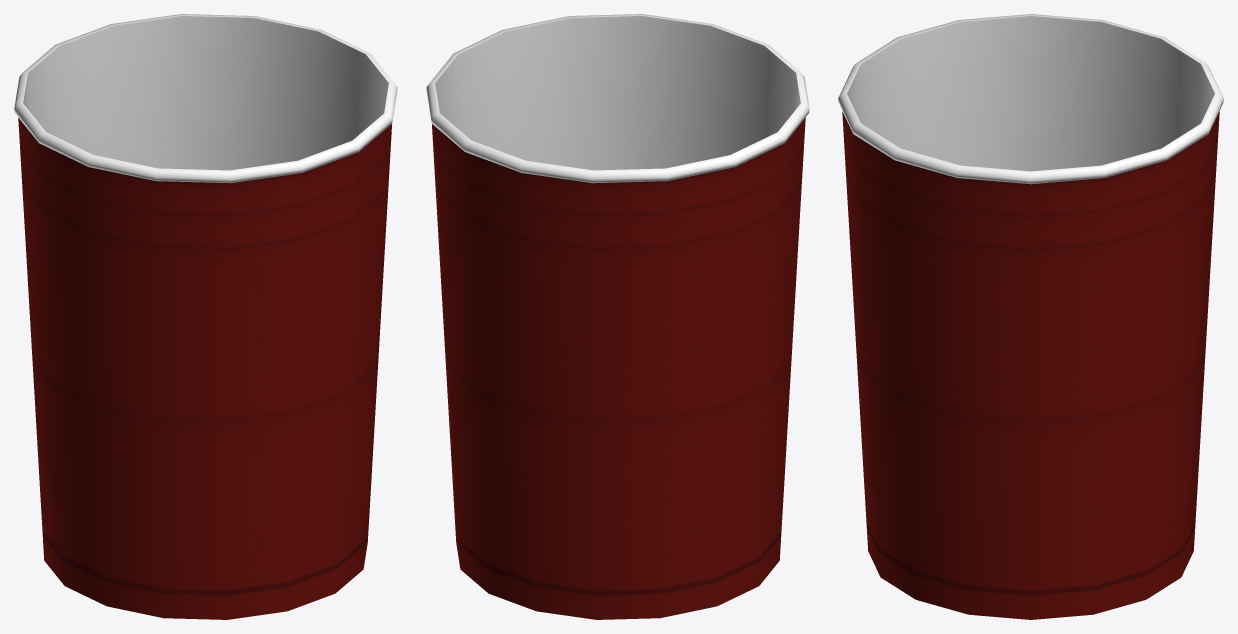
Rendered from cup_01.fbx.
3 renders of one model, left to right at view 1: azimuth 30°, elevation 25°; view 2: azimuth 150°, elevation 25°; view 3: azimuth 270°, elevation 25°, orthographic.
Parts seen in each view (by area): view 1: cup_01; view 2: cup_01; view 3: cup_01.
Boxes of the visible parts, x1,y1,x2,y2 form: cup_01: (14,14,397,619); cup_01: (426,14,809,619); cup_01: (838,14,1223,619).
Size of the model in its own units: 16.57 by 21.68 by 16.57.
